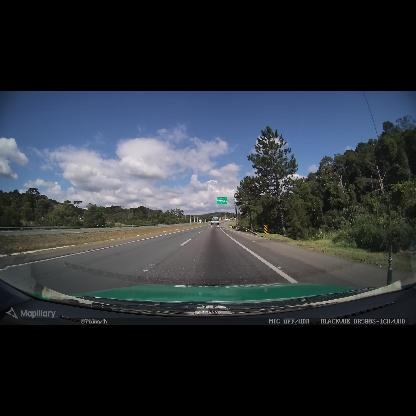O-MP: (264, 225, 268, 234)
